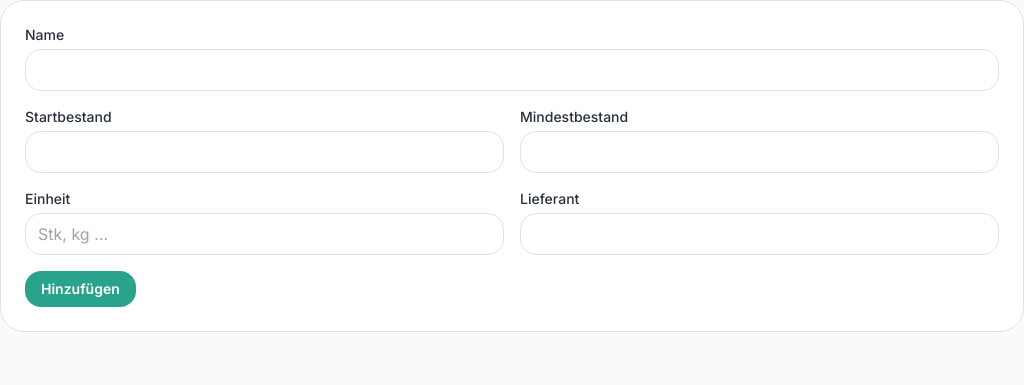
Scenario: ArticleForm › blocks saving without a name
This screenshot has width=1024, height=385.
Click the button "Hinzufügen" at x=80, y=289, box x1=25 y1=271 x2=136 y2=307
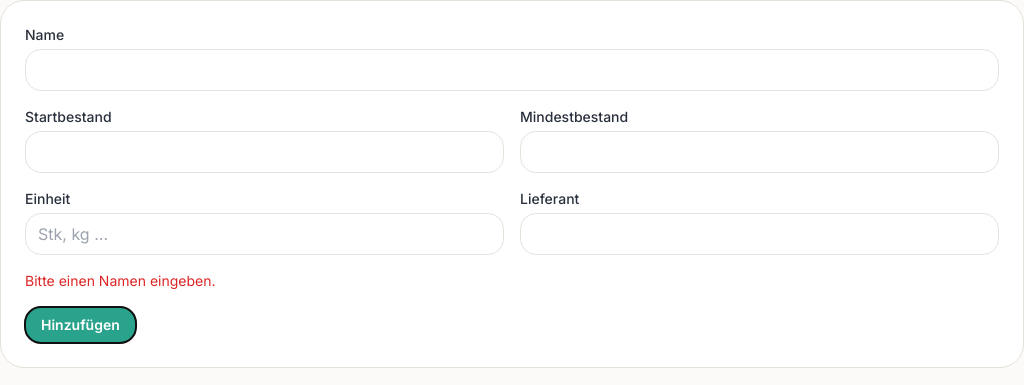
Check: the text "Bitte einen Namen eingeben." is shown, box x1=25 y1=272 x2=216 y2=289
